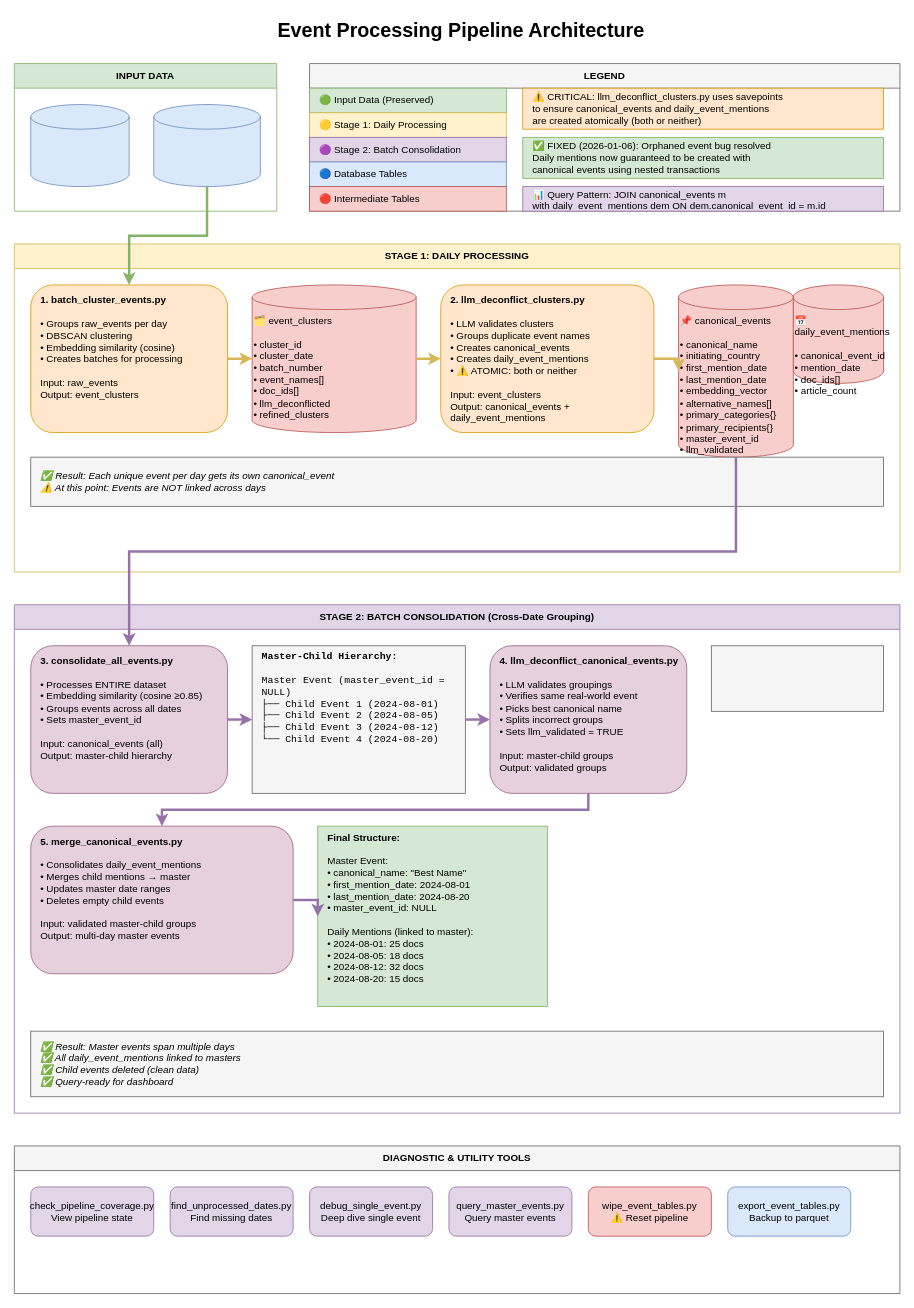
Image size: 914x1308. Some labels were removed from this diagram. The centre of each missing label's shape, as x and y in pixels:
"✅ llm_validated = TRUE 📝 Best canonical_name chosen ✂️ Incorrect groups split" belongs at pixel 797 678.
"📄 documents" belongs at pixel 79 145.
"📋 raw_events (flattened from documents)" belongs at pixel 206 145.
